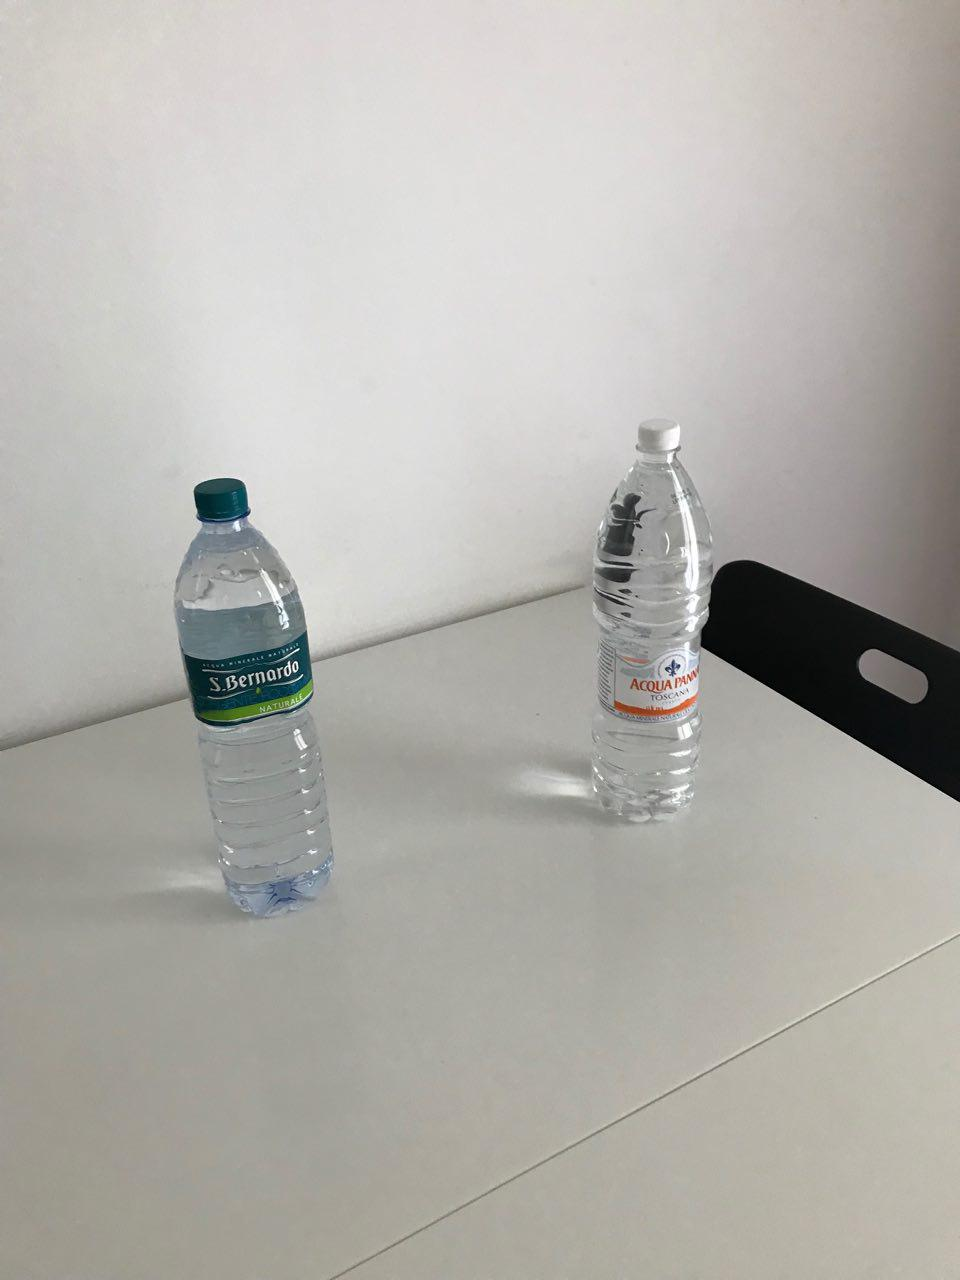san_bernardo: (173, 477, 336, 918)
